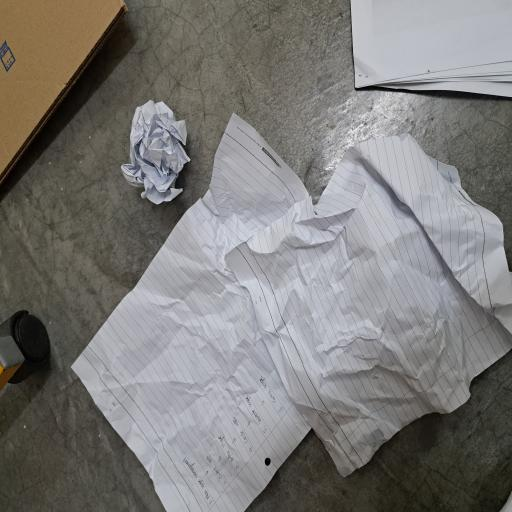cardboard: (244, 0, 384, 169)
paper: (0, 93, 300, 422), (26, 301, 287, 512), (230, 160, 308, 254), (311, 468, 383, 512)
